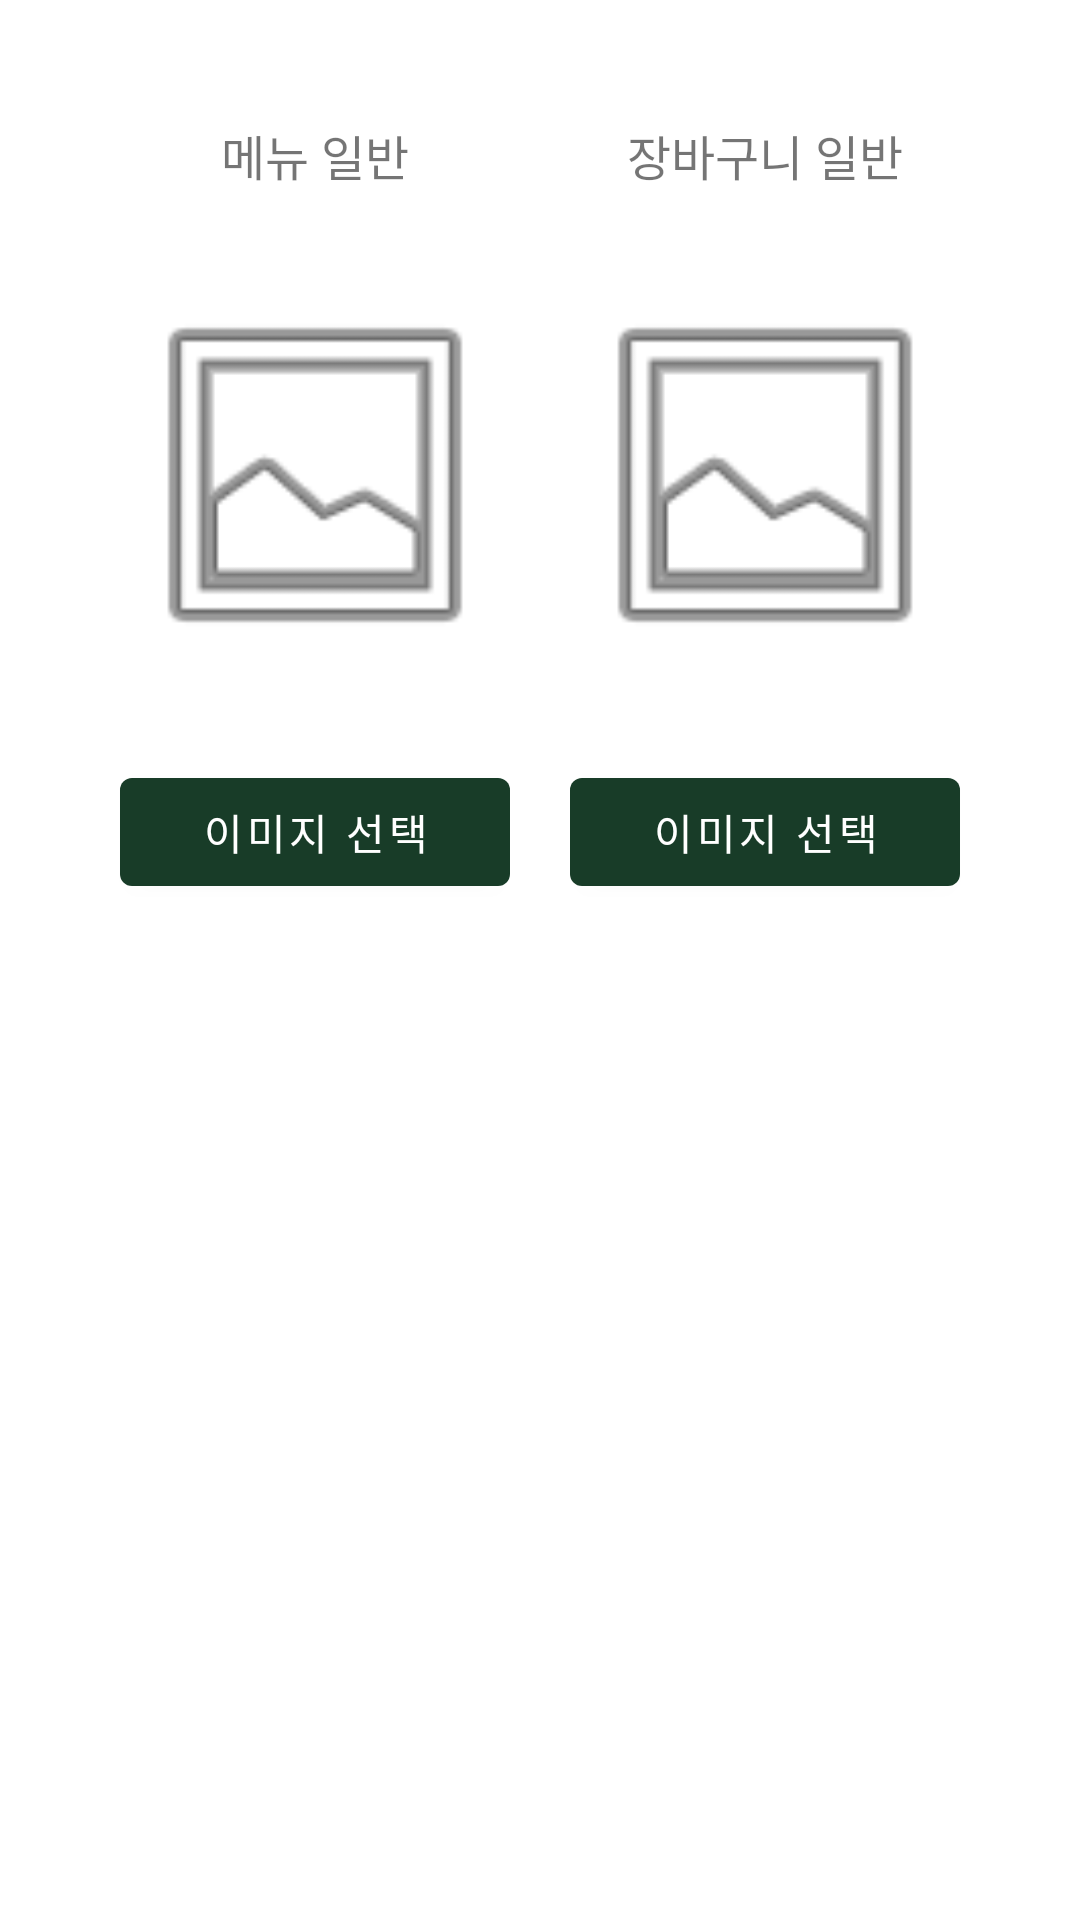

Locate icon controls on the screen. Image size 1080 × 1920, boxes as bbox(x1, y1, x2, y2).
gallery: bbox(168, 328, 462, 622), bbox(618, 328, 912, 622)
